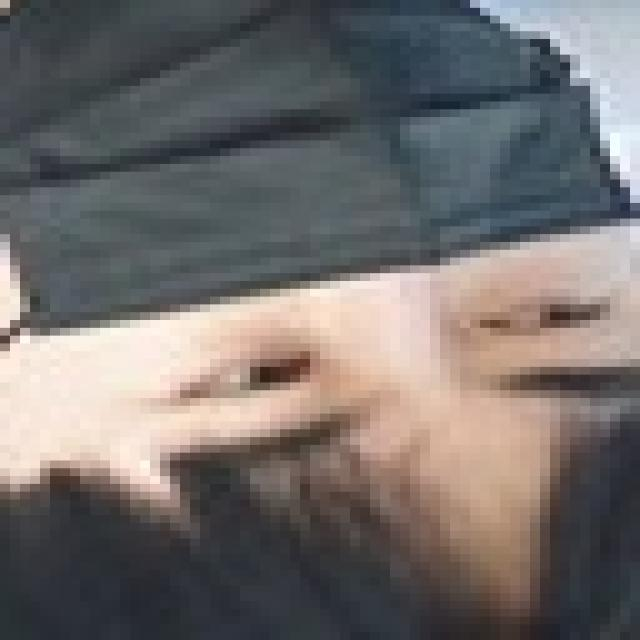Mask: (20, 17, 622, 364)
